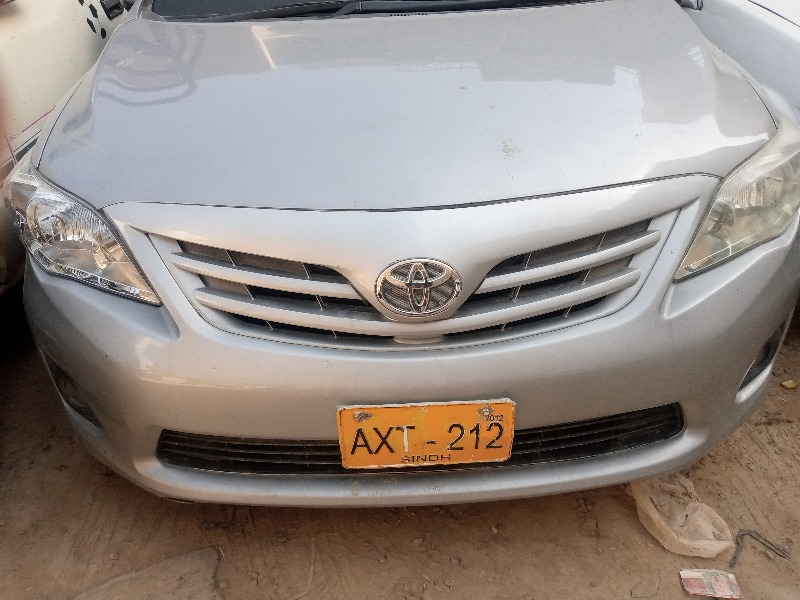License Plate: (333, 398, 516, 474)
